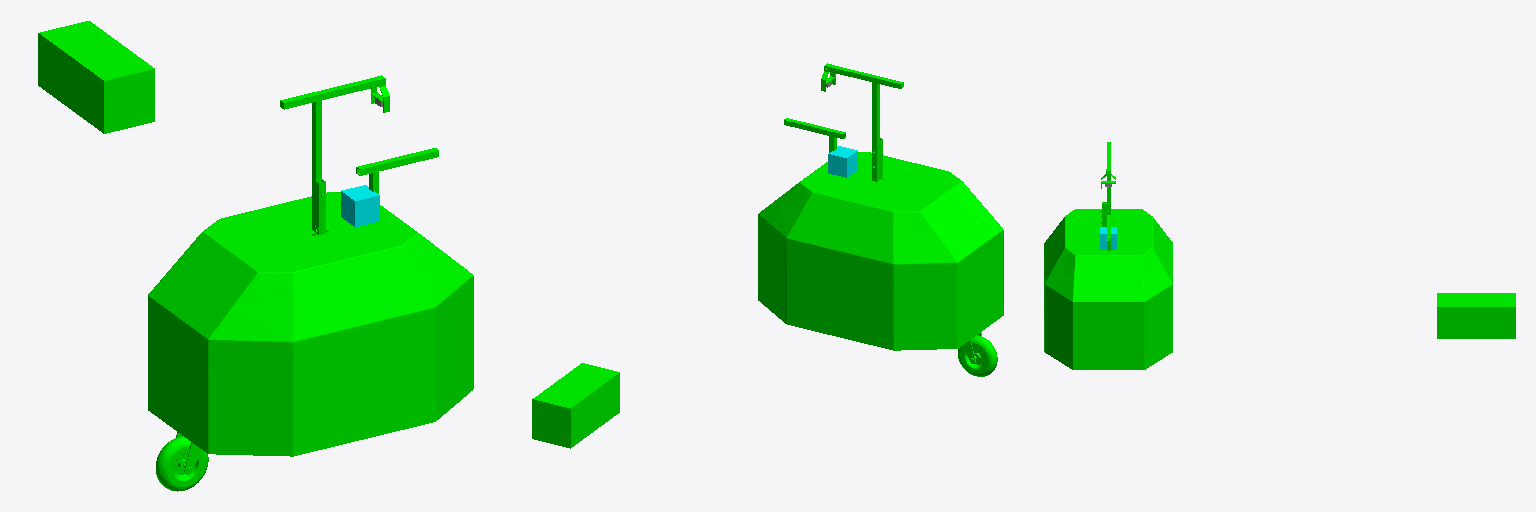
The robot description file, URDF, robot "Enterprise2":
<robot
  name="Enterprise2">
  <link
    name="base_link">
    <inertial>
      <origin
        xyz="0.00290116420774065 0.0433757838197974 0.171677136873843"
        rpy="0 0 0" />
      <mass
        value="519.878713579077" />
      <inertia
        ixx="83.1699805194045"
        ixy="8.50291213127822"
        ixz="0.87629234599188"
        iyy="55.2322608360111"
        iyz="-0.388567691205053"
        izz="103.789271563977" />
    </inertial>
    <visual>
      <origin
        xyz="0 0 0"
        rpy="0 0 0" />
      <geometry>
        <mesh
          filename="package://control/urdf/meshes/base_link.STL" />
      </geometry>
      <material
        name="">
        <color
          rgba="0 1.0 0 .2" />
      </material>
    </visual>
    <collision>
      <origin
        xyz="0 0 0"
        rpy="0 0 0" />
      <geometry>
        <mesh
          filename="package://control/urdf/meshes/base_link.STL" />
      </geometry>
    </collision>
  </link>
  <link
    name="Camera">
    <inertial>
      <origin
        xyz="-1.17081790270042E-15 -3.56686522134941E-05 0.0104399684105121"
        rpy="0 0 0" />
      <mass
        value="0.019869688853429" />
      <inertia
        ixx="1.7830597271236E-06"
        ixy="9.41612436036192E-22"
        ixz="-2.04225603299965E-22"
        iyy="3.030215810549E-06"
        iyz="6.48461006234025E-10"
        izz="3.28236130645933E-06" />
    </inertial>
    <visual>
      <origin
        xyz="0 0 0"
        rpy="0 0 0" />
      <geometry>
        <mesh
          filename="package://control/urdf/meshes/Camera.STL" />
      </geometry>
      <material
        name="">
        <color
          rgba="0.6 0.6 0.6 1" />
      </material>
    </visual>
    <collision>
      <origin
        xyz="0 0 0"
        rpy="0 0 0" />
      <geometry>
        <mesh
          filename="package://control/urdf/meshes/Camera.STL" />
      </geometry>
    </collision>
  </link>
  <joint
    name="Camera"
    type="fixed">
    <origin
      xyz="0.26987 0 0.95193"
      rpy="1.5708 6.123E-17 1.5708" />
    <parent
      link="base_link" />
    <child
      link="Camera" />
    <axis
      xyz="0 0 0" />
  </joint>
  
  <link
    name="laser">
    <inertial>
      <origin
        xyz=".5 1 1"
        rpy="0 0 0" />
      <mass
        value="1" />
      <inertia ixx="1" ixy="0" ixz="0" iyy="0" iyz="0" izz="100" />
    </inertial>
    <visual>
      <origin
        xyz=".1 0 .285"
        rpy="0 0 0" />
      <geometry>
        <box size=".1 .1 .1"/>
      </geometry>
      <material
        name="Cyan">
        <color
          rgba="0 1 1 1" />
      </material>
    </visual>
    <geometry>
      <box size=".1 .1 .1"/>
    </geometry>
  </link>
  
  <joint
    name="laser"
    type="fixed">
    <origin
      xyz=".1 0 .285"
      rpy="0 0 0" />
    <parent
      link="base_link" />
    <child
      link="laser" />
    <axis
      xyz="0 0 0" />
  </joint>
  
</robot>

--- What the picture shows (computed from the rendered views, not written in the file) ---
Views: 3 orthographic renders of the robot side by side, from view 1: azimuth 30°, elevation 25°; view 2: azimuth 150°, elevation 25°; view 3: azimuth 270°, elevation 25°.
Model Enterprise2 with 3 links and 2 joints (2 fixed), rooted at base_link, posed every joint at zero.
Links seen in each view (by area): view 1: base_link, laser; view 2: base_link, laser; view 3: base_link.
Link boxes in pixels (x1,y1,x2,y2): base_link: (38,21,473,491); laser: (341,185,379,226); base_link: (532,63,1003,448); laser: (828,146,857,177); base_link: (1044,142,1515,369).
Size in the robot's own frame: 1.15 by 2.75 by 1.39 metres.
Meshes: 2 distinct files referenced, 2 mesh visuals loaded (2 binary STL).